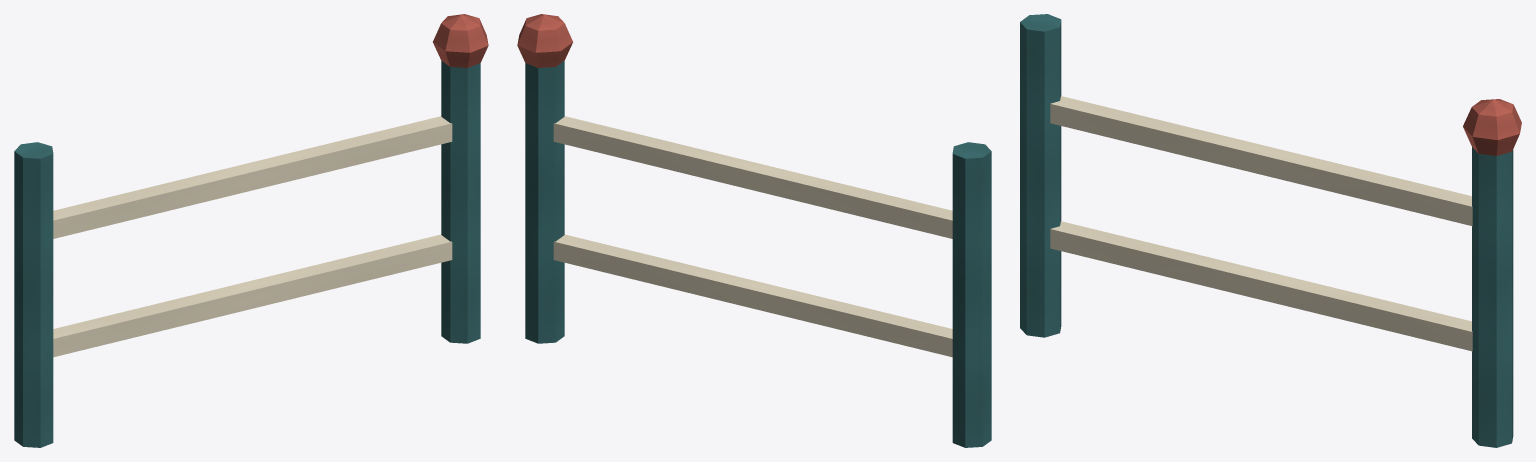
Rendered from atlas100-porcelain-util04.lod1.glb.
The picture shows the model from 3 angles, left to right: view 1: azimuth 30°, elevation 25°; view 2: azimuth 150°, elevation 25°; view 3: azimuth 330°, elevation 25°; orthographic projection. The views are drawn at different scales.
Parts seen in each view (by area): view 1: atlas100-porcelain-util04:part-000, atlas100-porcelain-util04:part-004, atlas100-porcelain-util04:part-005, atlas100-porcelain-util04:part-002, atlas100-porcelain-util04:part-003; view 2: atlas100-porcelain-util04:part-000, atlas100-porcelain-util04:part-004, atlas100-porcelain-util04:part-005, atlas100-porcelain-util04:part-002, atlas100-porcelain-util04:part-003; view 3: atlas100-porcelain-util04:part-000, atlas100-porcelain-util04:part-004, atlas100-porcelain-util04:part-005, atlas100-porcelain-util04:part-002, atlas100-porcelain-util04:part-003.
Part boxes in pixels (box(x1,y1,x2,y2)): atlas100-porcelain-util04:part-000: box(14, 142, 53, 447); atlas100-porcelain-util04:part-004: box(53, 234, 452, 357); atlas100-porcelain-util04:part-005: box(53, 116, 452, 238); atlas100-porcelain-util04:part-002: box(441, 61, 480, 343); atlas100-porcelain-util04:part-003: box(433, 14, 488, 67); atlas100-porcelain-util04:part-000: box(952, 142, 991, 447); atlas100-porcelain-util04:part-004: box(553, 234, 952, 357); atlas100-porcelain-util04:part-005: box(553, 116, 952, 238); atlas100-porcelain-util04:part-002: box(525, 61, 564, 343); atlas100-porcelain-util04:part-003: box(517, 14, 572, 67); atlas100-porcelain-util04:part-000: box(1020, 14, 1061, 337); atlas100-porcelain-util04:part-004: box(1050, 221, 1472, 351); atlas100-porcelain-util04:part-005: box(1050, 96, 1472, 226); atlas100-porcelain-util04:part-002: box(1472, 147, 1513, 447); atlas100-porcelain-util04:part-003: box(1463, 99, 1521, 155).
Bounding box in the file's own units: 1.91 × 1.25 × 0.1995.
Materials: 3 (3 with a texture image).
